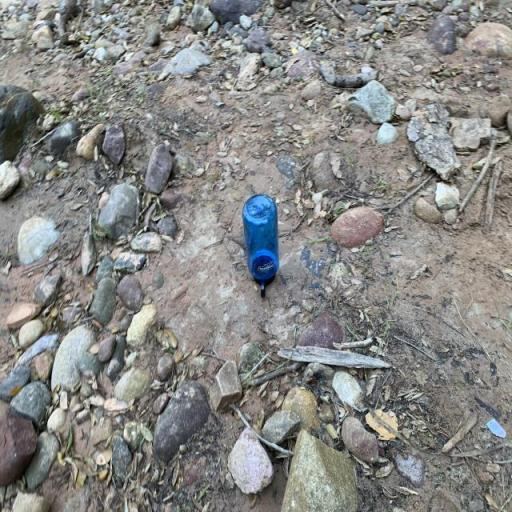bottle: (242, 194, 280, 298)
